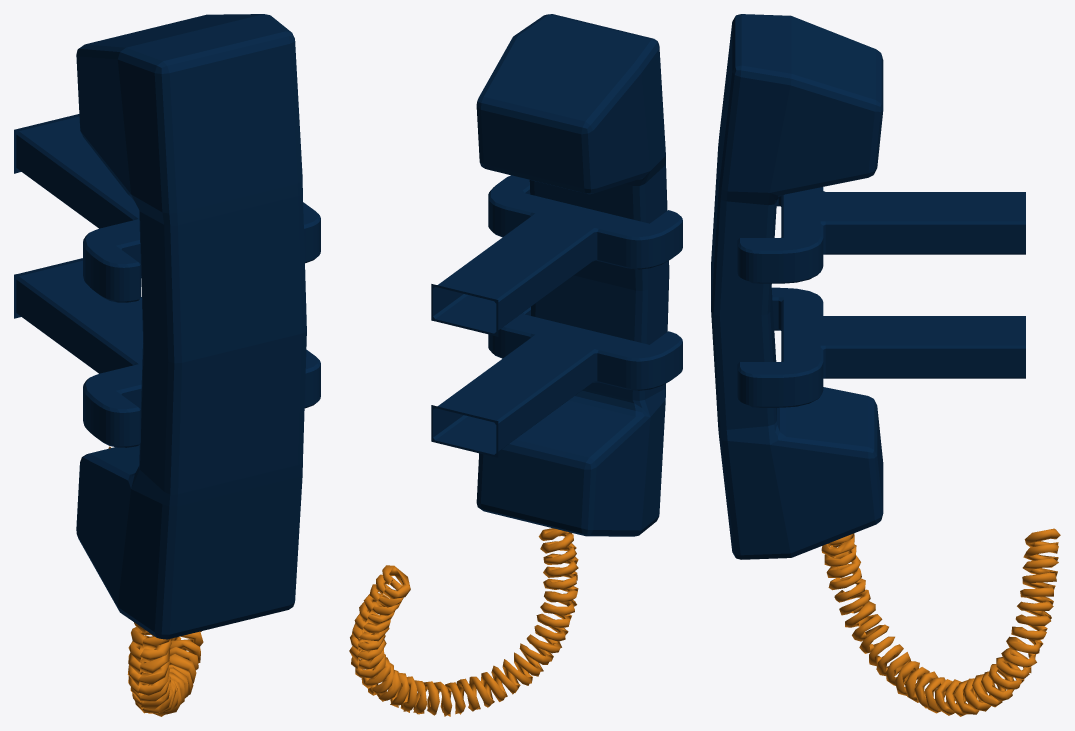
File: phone.fbx
3 views of the same model, side by side, from view 1: azimuth 30°, elevation 25°; view 2: azimuth 150°, elevation 25°; view 3: azimuth 270°, elevation 25° (orthographic). The views are drawn at different scales.
Visible parts, largest first — view 1: combinet, support, cordon; view 2: combinet, support, cordon; view 3: combinet, support, cordon.
Part boxes in pixels (box(x1,y1,x2,y2)): combinet: box(76, 14, 306, 639); support: box(14, 114, 320, 447); cordon: box(108, 446, 203, 716); combinet: box(476, 14, 669, 536); support: box(431, 175, 682, 457); cordon: box(349, 528, 578, 716); combinet: box(711, 14, 883, 559); support: box(737, 187, 1025, 407); cordon: box(821, 528, 1060, 716).
Bounding box in the file's own units: 97.12 × 288 × 142.
